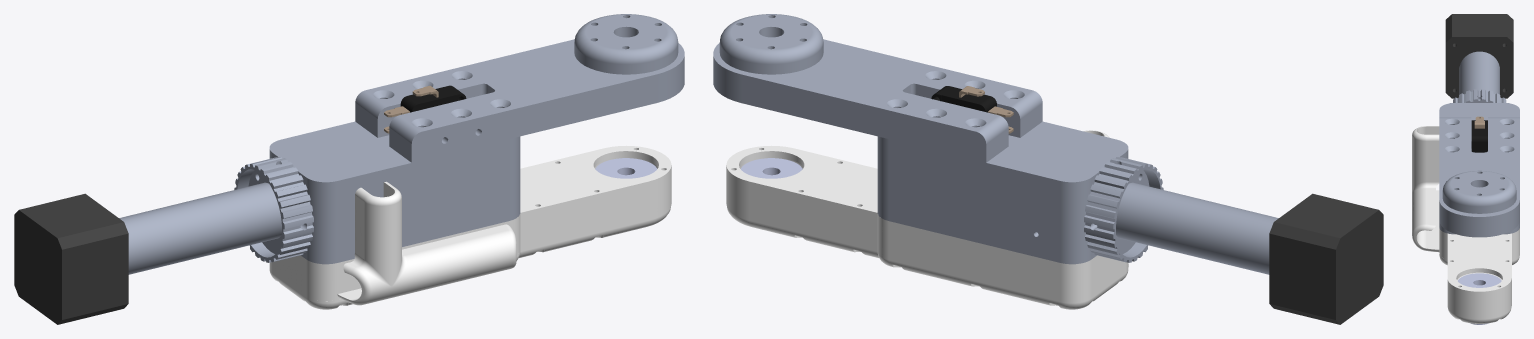
3 renders of one model, left to right at view 1: azimuth 30°, elevation 25°; view 2: azimuth 150°, elevation 25°; view 3: azimuth 270°, elevation 25°, orthographic. The views are drawn at different scales.
Visible parts, largest first — view 1: Body1:3, Body1:13, Body1:8, Body1:17, Body1:1, Body1:7, Body1:5, Body1:2, Body1:9, Body1:4, Body1:6; view 2: Body1:13, Body1:3, Body1:17, Body1:8, Body1:7, Body1:1, Body1:5, Body1:2, Body1:9, Body1:4, Body1:6; view 3: Body1:3, Body1:8, Body1:17, Body1:7, Body1:5, Body1:1, Body1:13, Body1:4, Body1:2, Body1:9, Body1:6.
Part boxes in pixels (x1,y1,x2,y2): Body1:3: (355,39,684,162); Body1:13: (269,121,520,264); Body1:8: (269,168,671,305); Body1:17: (14,193,128,324); Body1:1: (119,182,281,274); Body1:7: (288,145,671,276); Body1:5: (574,14,678,74); Body1:2: (234,157,313,262); Body1:9: (269,202,671,309); Body1:4: (384,85,466,133); Body1:6: (595,158,657,178); Body1:13: (877,121,1128,264); Body1:3: (713,39,1042,162); Body1:17: (1269,193,1383,324); Body1:8: (726,130,1128,301); Body1:7: (726,145,1109,276); Body1:1: (1116,182,1278,274); Body1:5: (719,14,823,74); Body1:2: (1084,157,1163,262); Body1:9: (726,202,1128,309); Body1:4: (931,86,1013,133); Body1:6: (741,158,802,178); Body1:3: (1439,117,1519,237); Body1:8: (1412,126,1519,317); Body1:17: (1445,14,1513,98); Body1:7: (1439,228,1519,300); Body1:5: (1442,170,1516,213); Body1:1: (1459,51,1499,94); Body1:13: (1439,103,1519,234); Body1:4: (1471,116,1487,152); Body1:2: (1450,89,1508,103); Body1:9: (1439,253,1519,323); Body1:6: (1458,273,1501,324).
Size of the model in its own units: 32.63 by 9.3 by 6.7.
